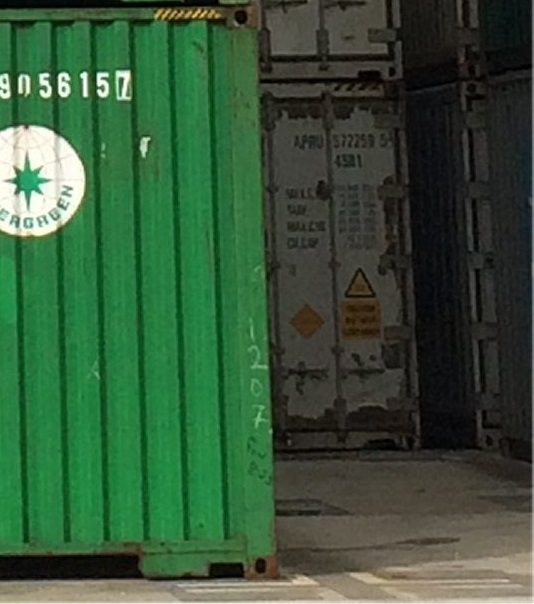container_door: (264, 84, 416, 454)
container_no_door: (4, 3, 258, 583)
